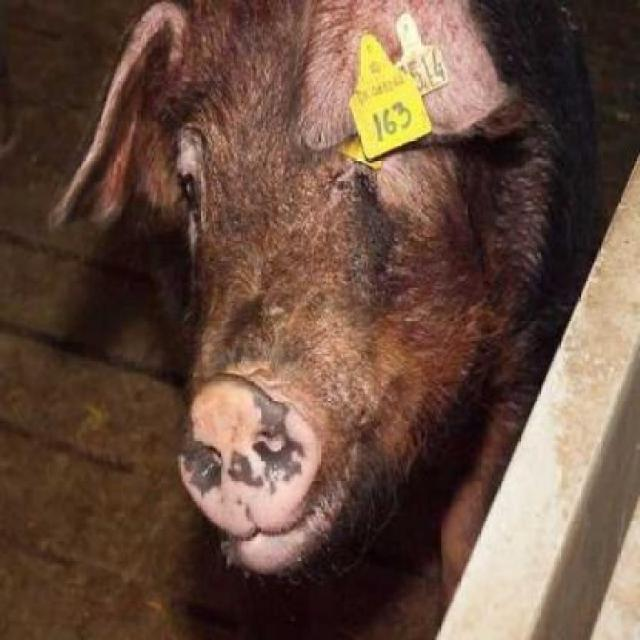pig: (80, 0, 639, 591)
